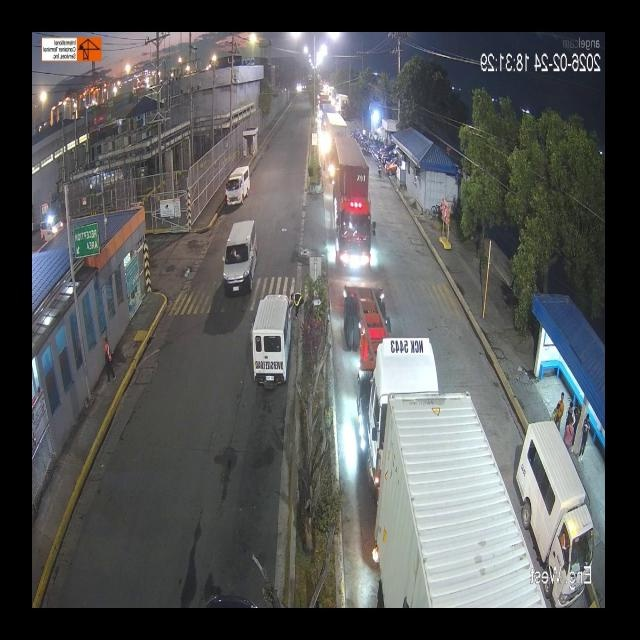car: (524, 438, 588, 566), (213, 212, 265, 310), (248, 298, 299, 389), (224, 166, 252, 206)
truck: (197, 276, 330, 505), (264, 126, 320, 280)
